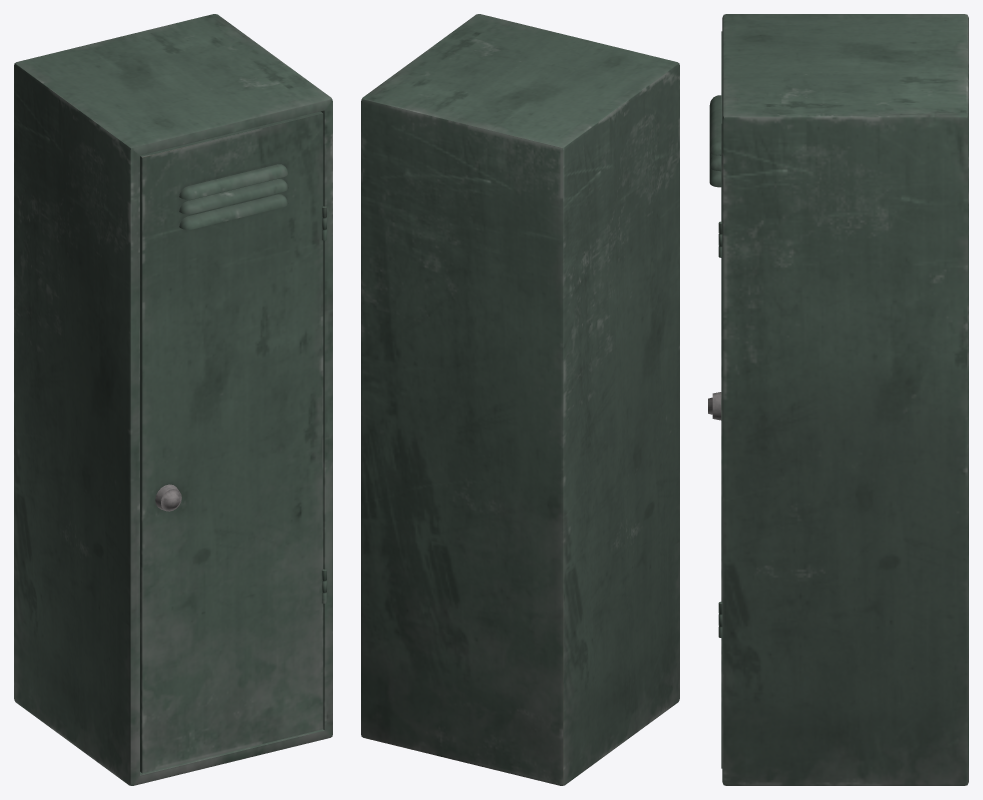
Rendered from Locker.fbx.
3 renders of one model, left to right at view 1: azimuth 30°, elevation 25°; view 2: azimuth 150°, elevation 25°; view 3: azimuth 270°, elevation 25°, orthographic. The views are drawn at different scales.
Parts seen in each view (by area): view 1: taquilla_low; view 2: taquilla_low; view 3: taquilla_low.
Boxes of the visible parts, x1,y1,x2,y2 form: taquilla_low: (14,14,332,785); taquilla_low: (361,14,679,785); taquilla_low: (708,14,968,785).
Bounding box in the file's own units: 27.25 × 81.74 × 28.83.
